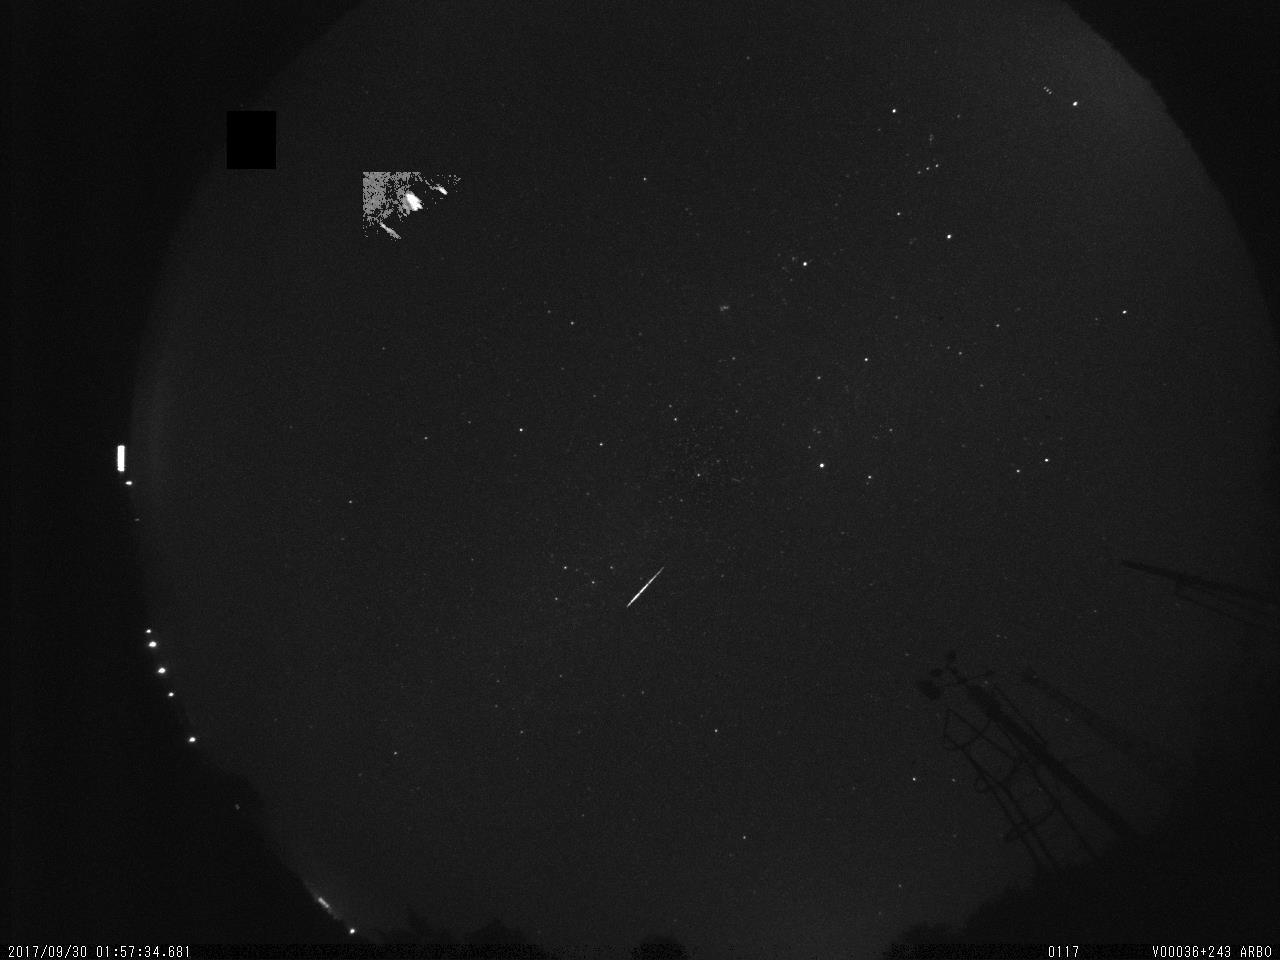TLE: (363, 172, 463, 249)
